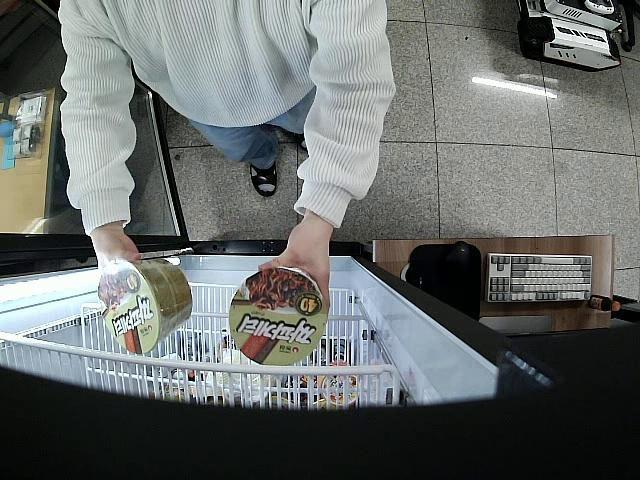03_chapagetti_L: (226, 266, 323, 366), (98, 257, 194, 354)
